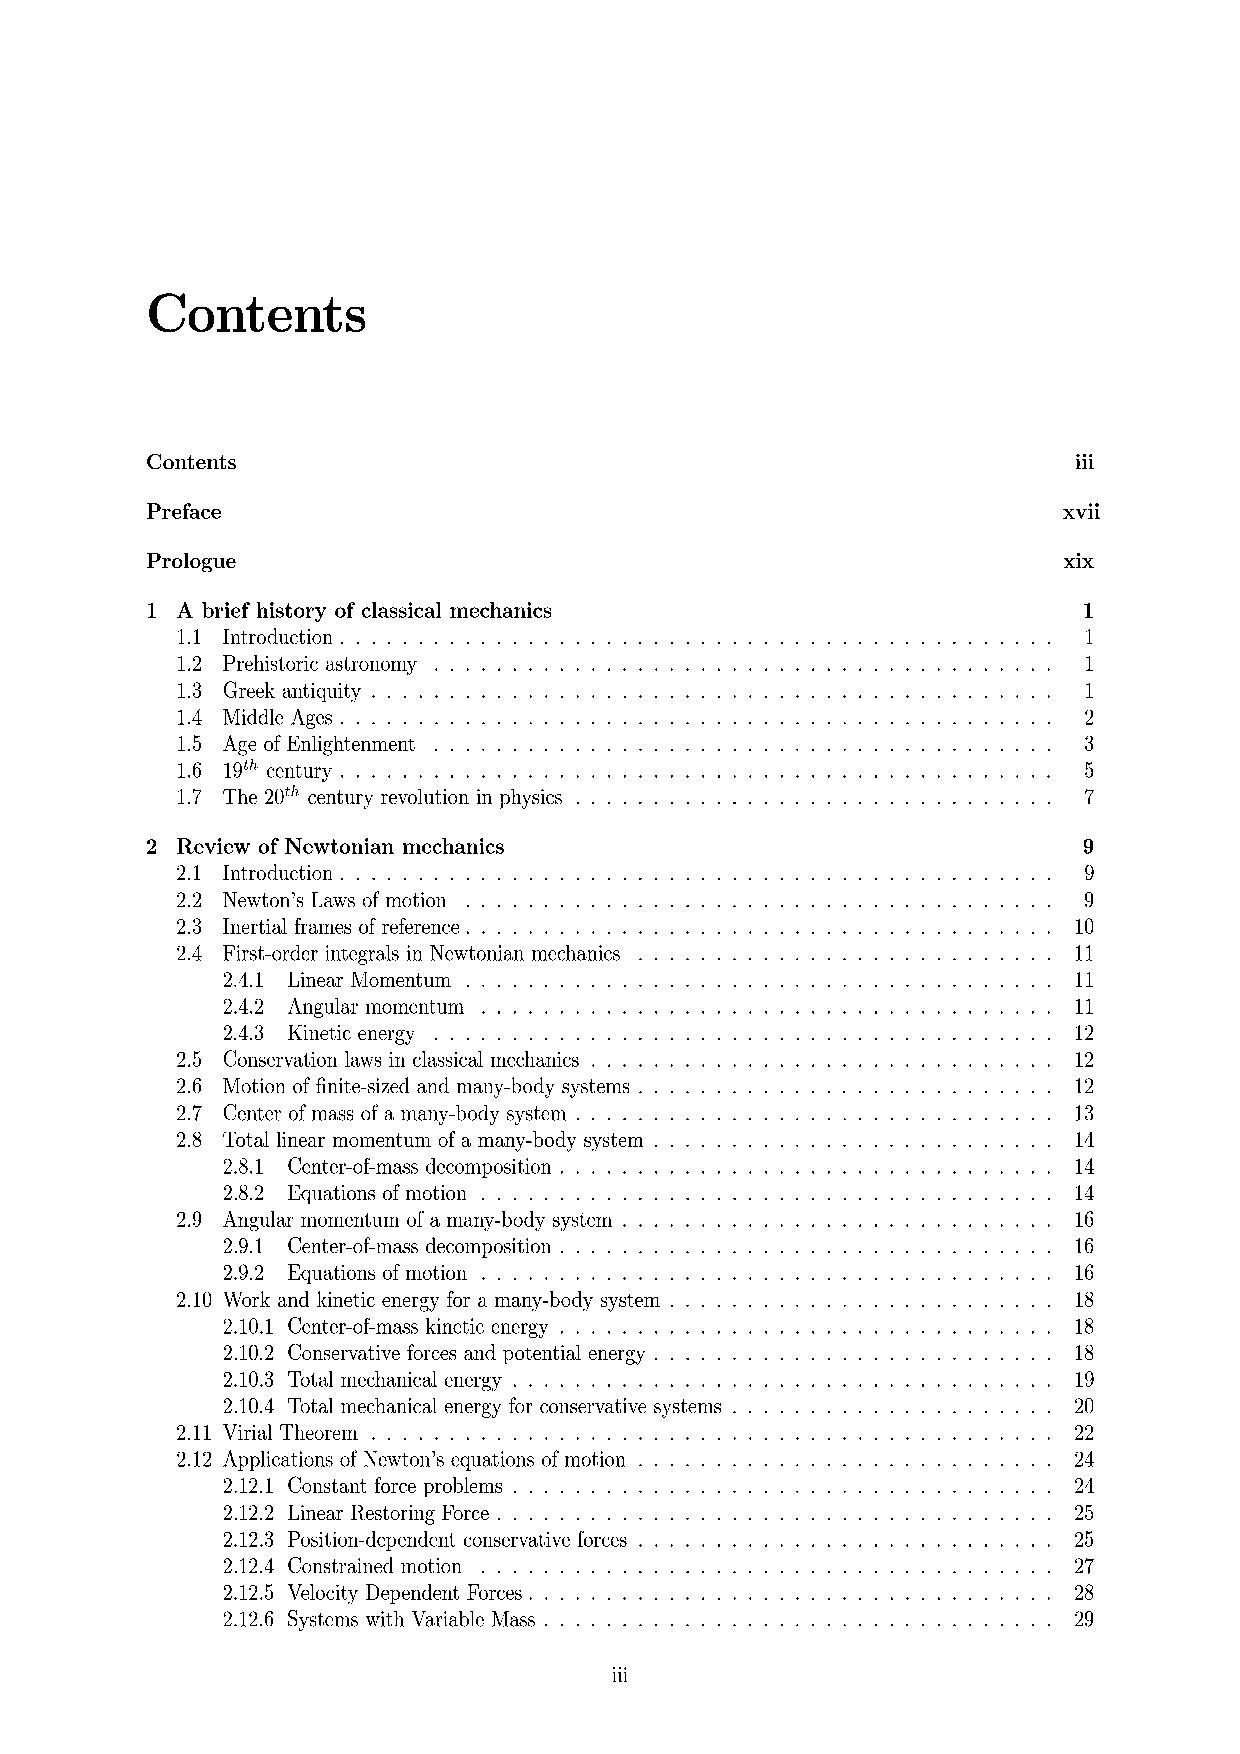TOC_chapter: (221, 1396, 723, 1418), (173, 1074, 629, 1098), (174, 1290, 658, 1312), (173, 942, 619, 965), (173, 1130, 643, 1151), (174, 1100, 566, 1126), (221, 1342, 645, 1365), (174, 785, 562, 809), (173, 1449, 625, 1469), (174, 1210, 612, 1231), (221, 1529, 625, 1550), (145, 600, 552, 620), (170, 1049, 577, 1070), (223, 1235, 552, 1259), (221, 1155, 552, 1178), (220, 1317, 548, 1339), (144, 836, 506, 856), (221, 1608, 535, 1631), (221, 1368, 502, 1392), (221, 1502, 490, 1525), (221, 1582, 523, 1602), (177, 733, 416, 757), (174, 915, 460, 935), (174, 888, 447, 909), (217, 1476, 503, 1495), (221, 1181, 468, 1202), (174, 652, 417, 674), (221, 994, 464, 1016), (221, 1263, 470, 1283), (221, 1555, 462, 1576), (221, 1023, 413, 1045), (219, 969, 450, 988), (177, 679, 360, 702), (173, 1421, 360, 1443), (177, 706, 331, 729), (174, 625, 333, 647), (176, 760, 331, 781), (173, 863, 333, 882), (144, 550, 236, 574), (146, 452, 236, 470), (145, 501, 221, 521)
TOC_pagenumber: (1062, 501, 1103, 523), (1062, 552, 1095, 570), (1072, 1447, 1096, 1468), (1071, 1527, 1095, 1549), (1074, 914, 1096, 935), (1074, 1208, 1095, 1231), (1072, 1394, 1096, 1414), (1074, 451, 1095, 472), (1074, 968, 1094, 990), (1074, 1075, 1096, 1095), (1074, 1155, 1096, 1176), (1074, 1235, 1096, 1255), (1071, 1423, 1095, 1441), (1074, 1606, 1094, 1628), (1074, 1049, 1096, 1068), (1074, 1475, 1096, 1494), (1075, 1263, 1095, 1283), (1074, 1023, 1095, 1041), (1074, 1129, 1095, 1147), (1074, 1290, 1095, 1308), (1074, 1555, 1095, 1574), (1074, 1580, 1092, 1601), (1074, 943, 1092, 964), (1074, 1181, 1094, 1200), (1074, 1370, 1094, 1389), (1075, 1102, 1094, 1121), (1075, 1317, 1094, 1335), (1074, 1502, 1092, 1520), (1074, 997, 1092, 1015), (1075, 1343, 1095, 1359), (1080, 709, 1096, 727), (1082, 888, 1094, 910), (1082, 836, 1095, 855), (1083, 680, 1095, 701), (1082, 862, 1094, 882), (1082, 655, 1095, 672), (1080, 600, 1092, 619), (1083, 786, 1095, 804), (1084, 628, 1095, 647), (1082, 733, 1092, 750), (1083, 760, 1094, 777)
chapter: (146, 291, 366, 334)
